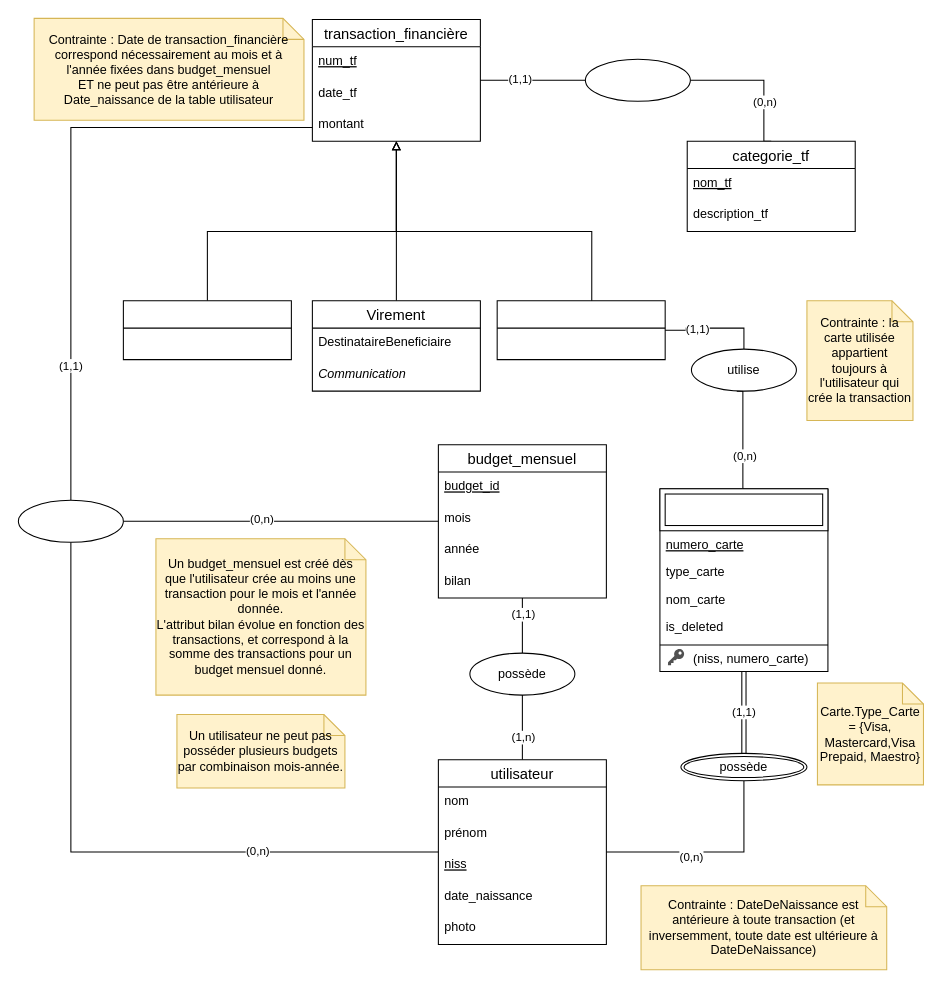
Some shapes in this 942 by 988 pixel diagram are drawn without their labels. Here are the shapes that lost their labels. From the top down, the centre of each, then its label:
At pixel 637 79: "est".
At pixel 206 330: "Cash".
At pixel 580 330: "Payement par carte".
At pixel 70 520: "crée".
At pixel 743 509: "Carte".
